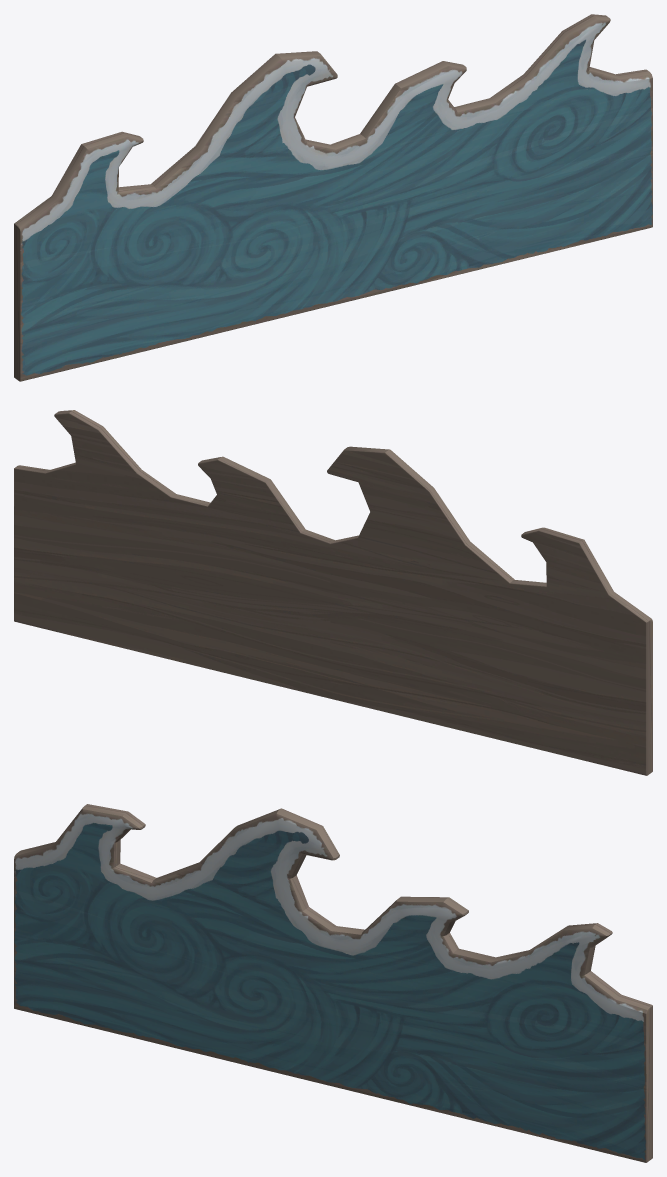
File: waves.glb
3 views of the same model, one above another, from view 1: azimuth 30°, elevation 25°; view 2: azimuth 150°, elevation 25°; view 3: azimuth 330°, elevation 25° (orthographic).
Visible parts, largest first — view 1: Quest_Pirate_Waves; view 2: Quest_Pirate_Waves; view 3: Quest_Pirate_Waves.
Boxes of the visible parts, <box> form: Quest_Pirate_Waves: <box>14,14,652,381</box>; Quest_Pirate_Waves: <box>14,410,652,775</box>; Quest_Pirate_Waves: <box>14,804,652,1162</box>.
Bounding box in the file's own units: 2 × 0.7847 × 0.0372.
1 material, 1 textured.
